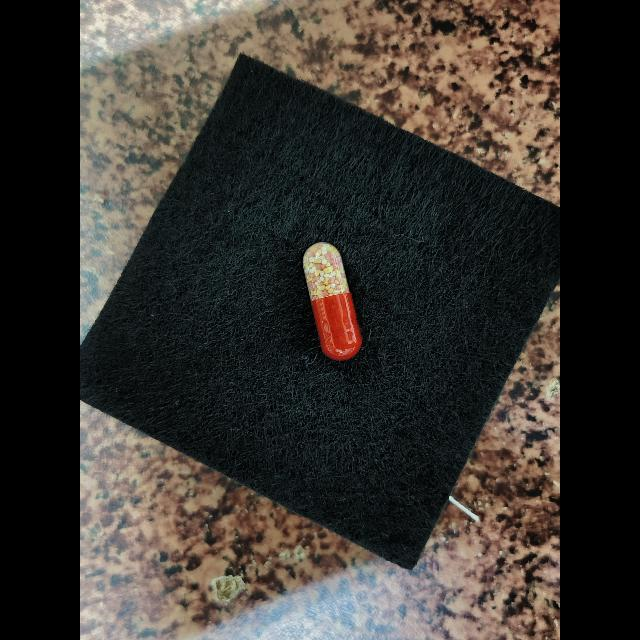Intact Capsule: (303, 242, 362, 360)
